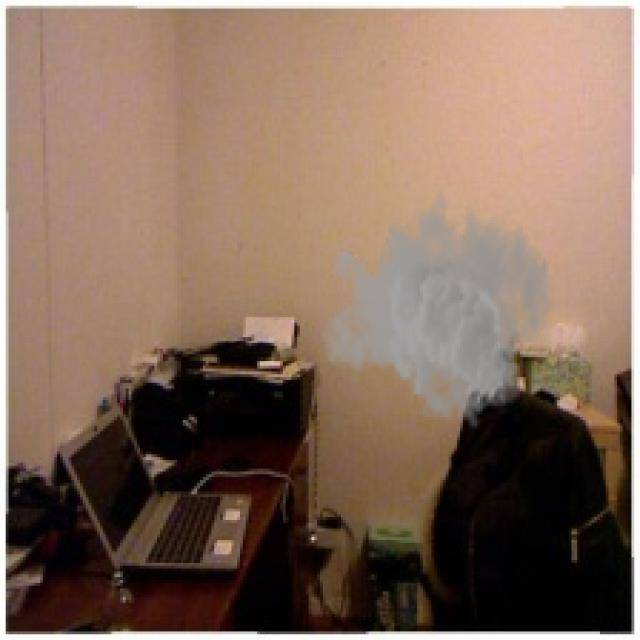smoke: (320, 183, 554, 431)
